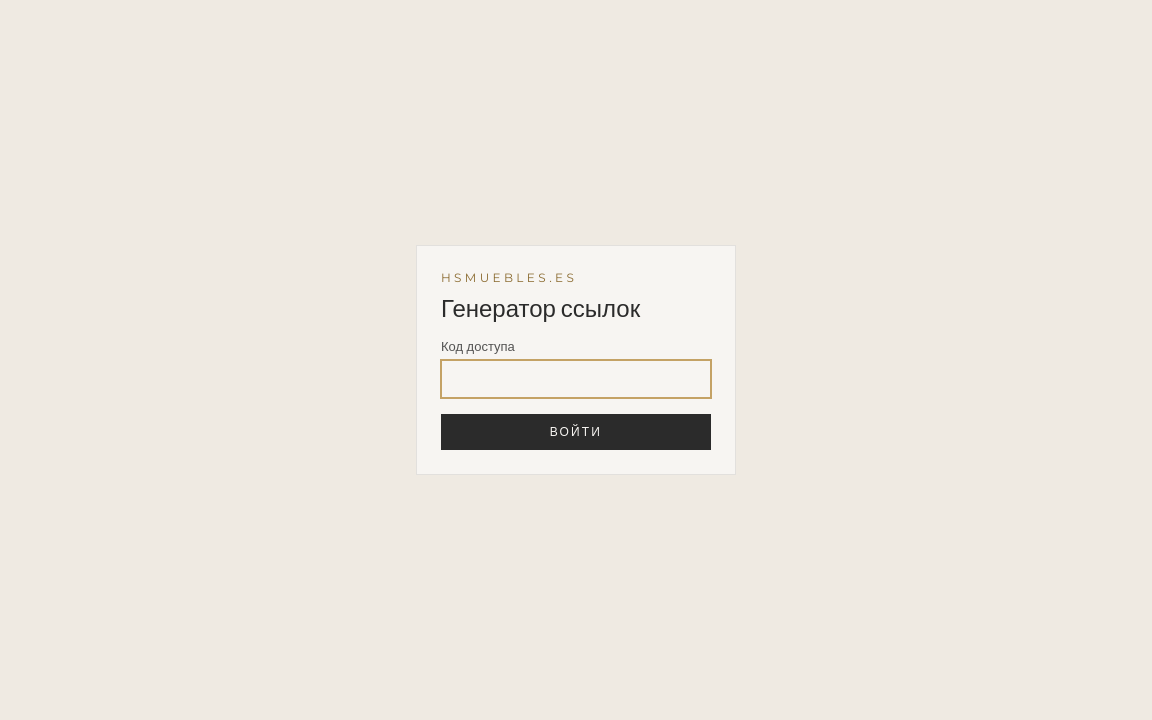
UtmBuilder — сборка ссылки › принимает в адрес полную ссылку товара и чистит её
Type "777111" into the password field labelled "Код доступа" at (576, 379), box [441, 360, 711, 398]
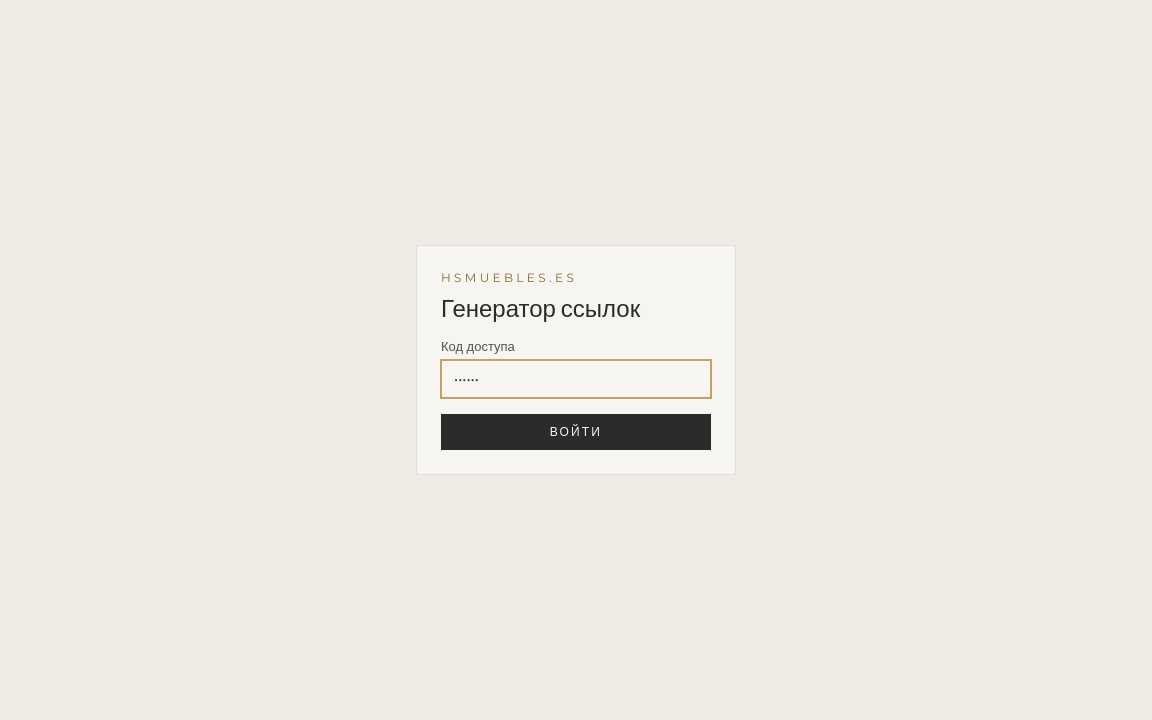
Click the button "Войти" at (576, 432), box [441, 414, 711, 450]
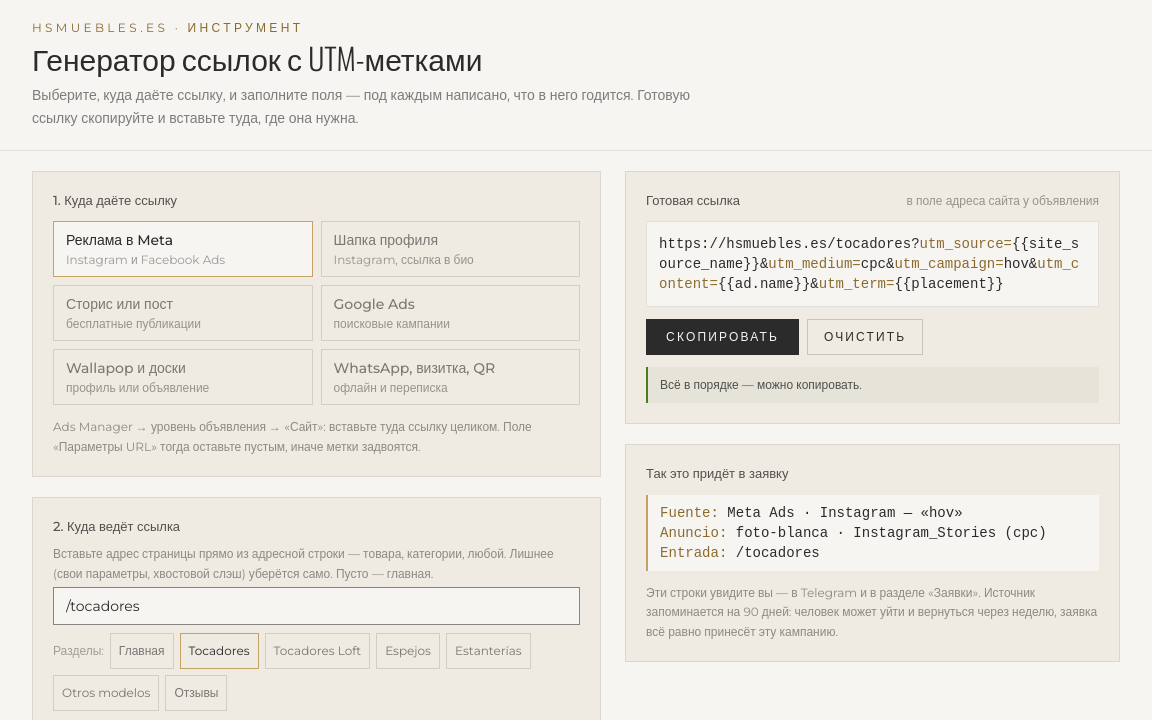
Replace the text in the field labelled "Вставьте адрес страницы" with "https://hsmuebles.es/tocadores/Tocador-L-01?utm_source=old#top" at (317, 606), box [53, 587, 580, 625]
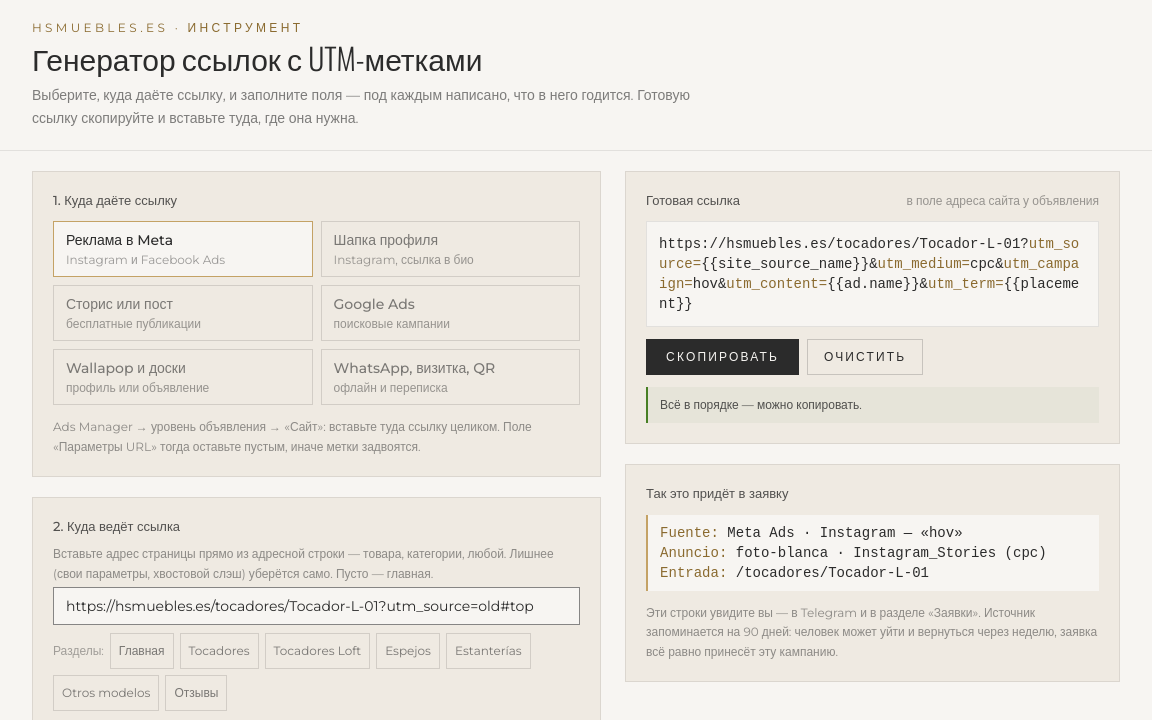
Expected: the text "hsmuebles.es/tocadores/Tocador-L-01?" is shown, [659, 236, 1029, 252]
